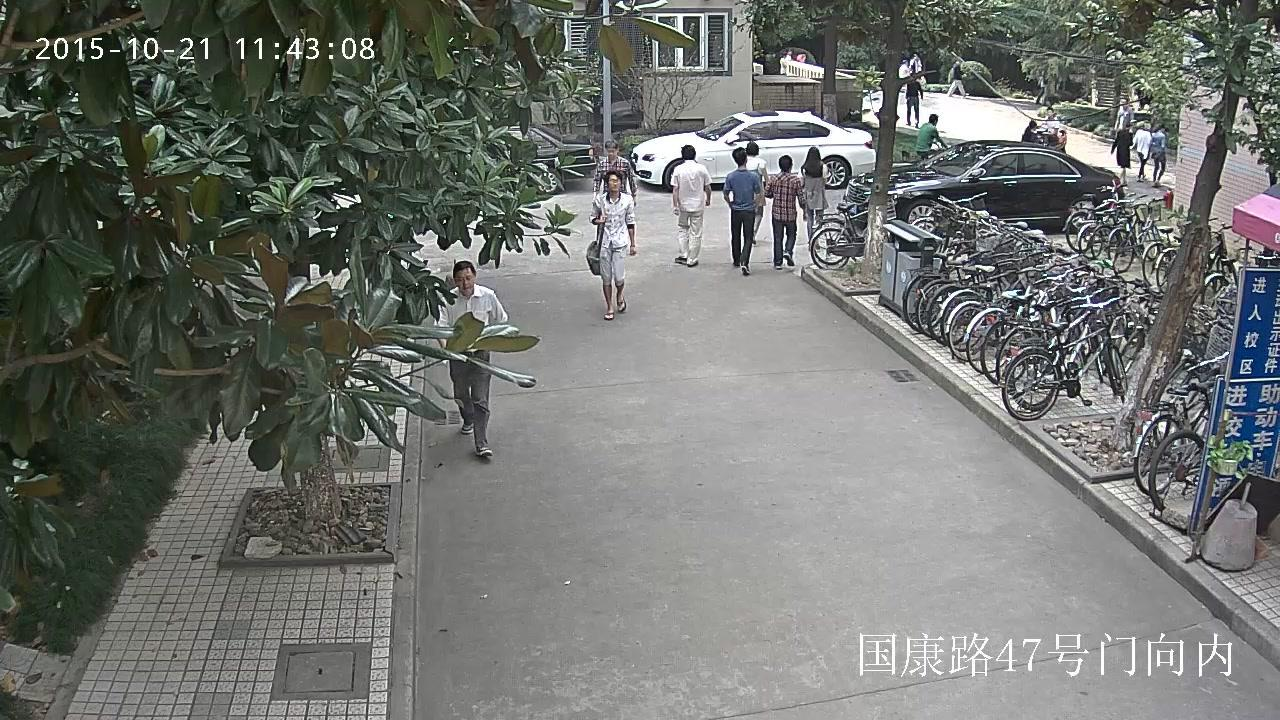face: (457, 270, 473, 294), (608, 175, 620, 191), (607, 147, 616, 158), (1047, 109, 1052, 116), (1122, 101, 1127, 105), (1163, 128, 1166, 132)
